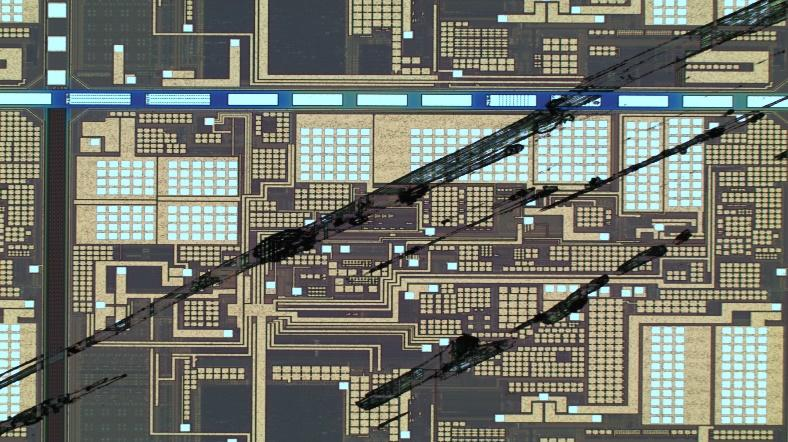SCRATCH: (1, 1, 788, 441)
